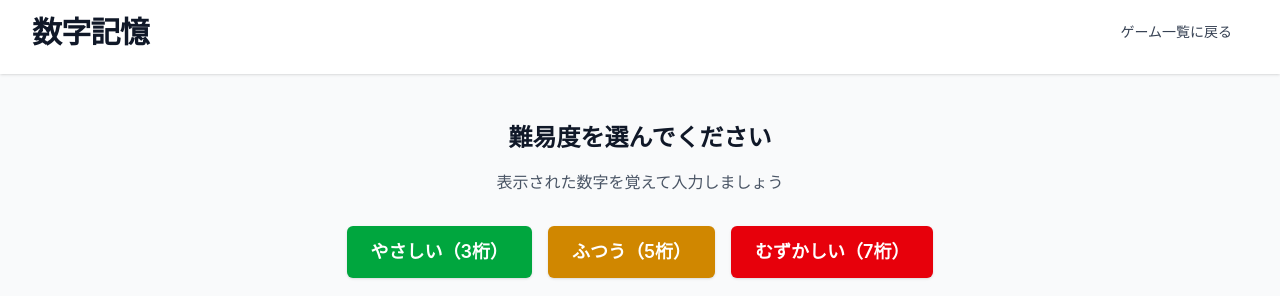
Test case: NumberMemoryGame › should show input field when in input state
Click the button "やさしい（3桁）" at (439, 252), box [347,226,532,278]
Wait 3000 ms
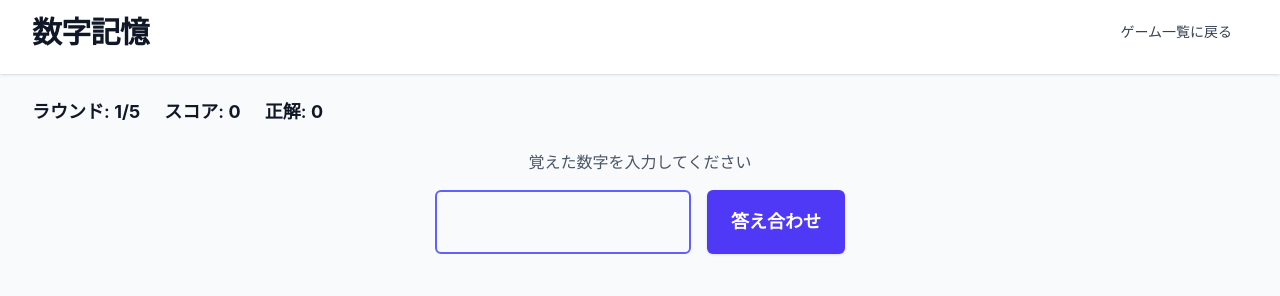
Check: the field is shown, box [435,190,691,254]
Check: the button "答え合わせ" is shown, box [707,190,845,254]
